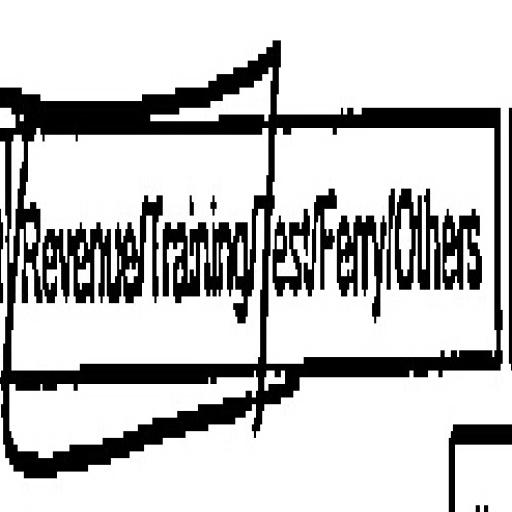check: (8, 29, 141, 512), (142, 36, 262, 472)
